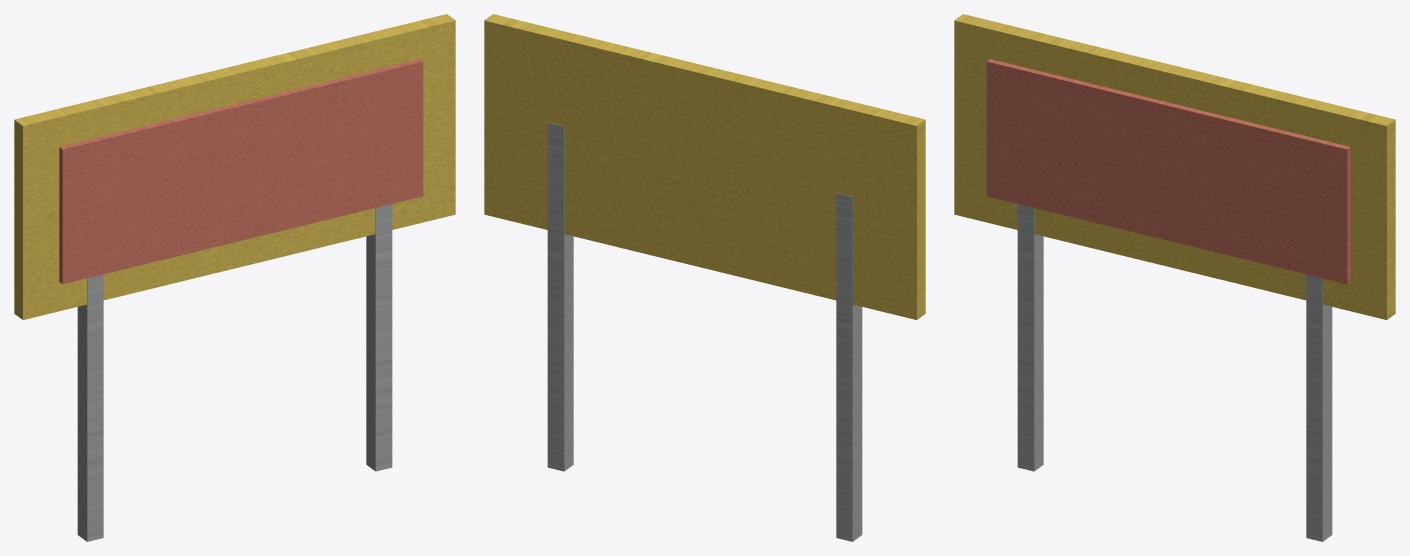
File: billboard_lod1.glb
The picture shows the model from 3 angles, left to right: view 1: azimuth 30°, elevation 25°; view 2: azimuth 150°, elevation 25°; view 3: azimuth 330°, elevation 25°; orthographic projection.
Visible parts, largest first — view 1: world; view 2: world; view 3: world.
Part boxes in pixels (x1=…): world: x1=14, y1=14, x2=455, y2=541; world: x1=484, y1=14, x2=925, y2=541; world: x1=954, y1=14, x2=1395, y2=541.
Bounding box in the file's own units: 4.2 × 4 × 0.215.
4 materials, 4 textured.
